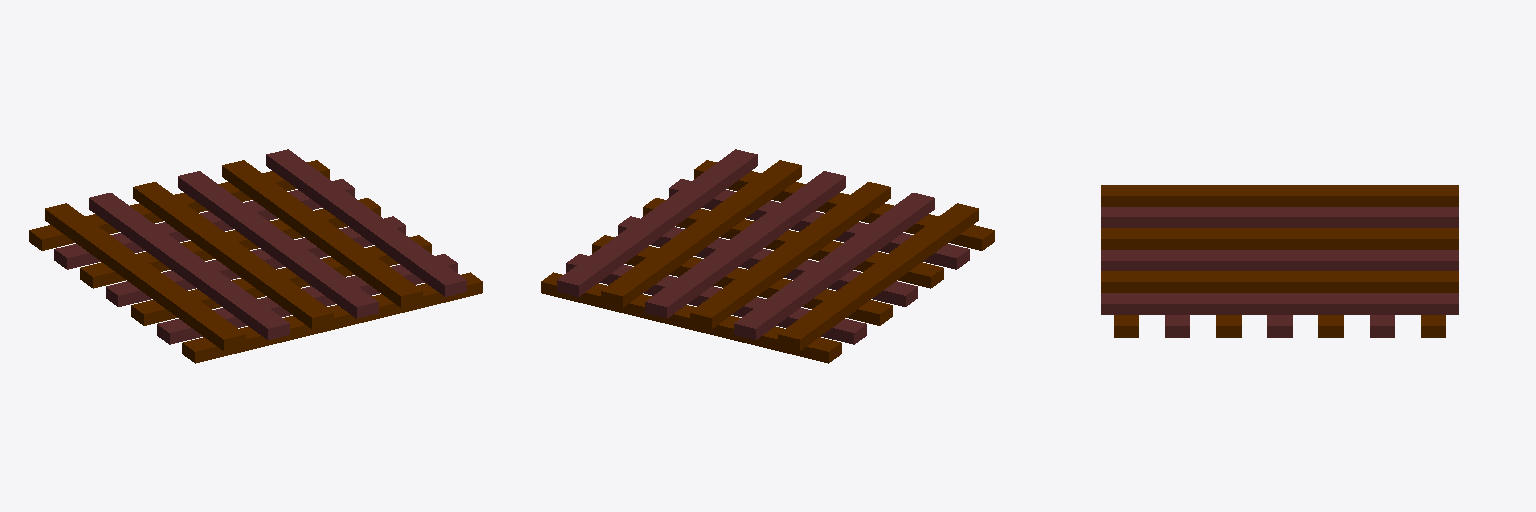
The picture shows the model from 3 angles: view 1: azimuth 30°, elevation 25°; view 2: azimuth 150°, elevation 25°; view 3: azimuth 270°, elevation 25°; orthographic projection.
Bounding box in the file's own units: 26 × 2 × 28.
Materials: 1 (1 with a texture image).